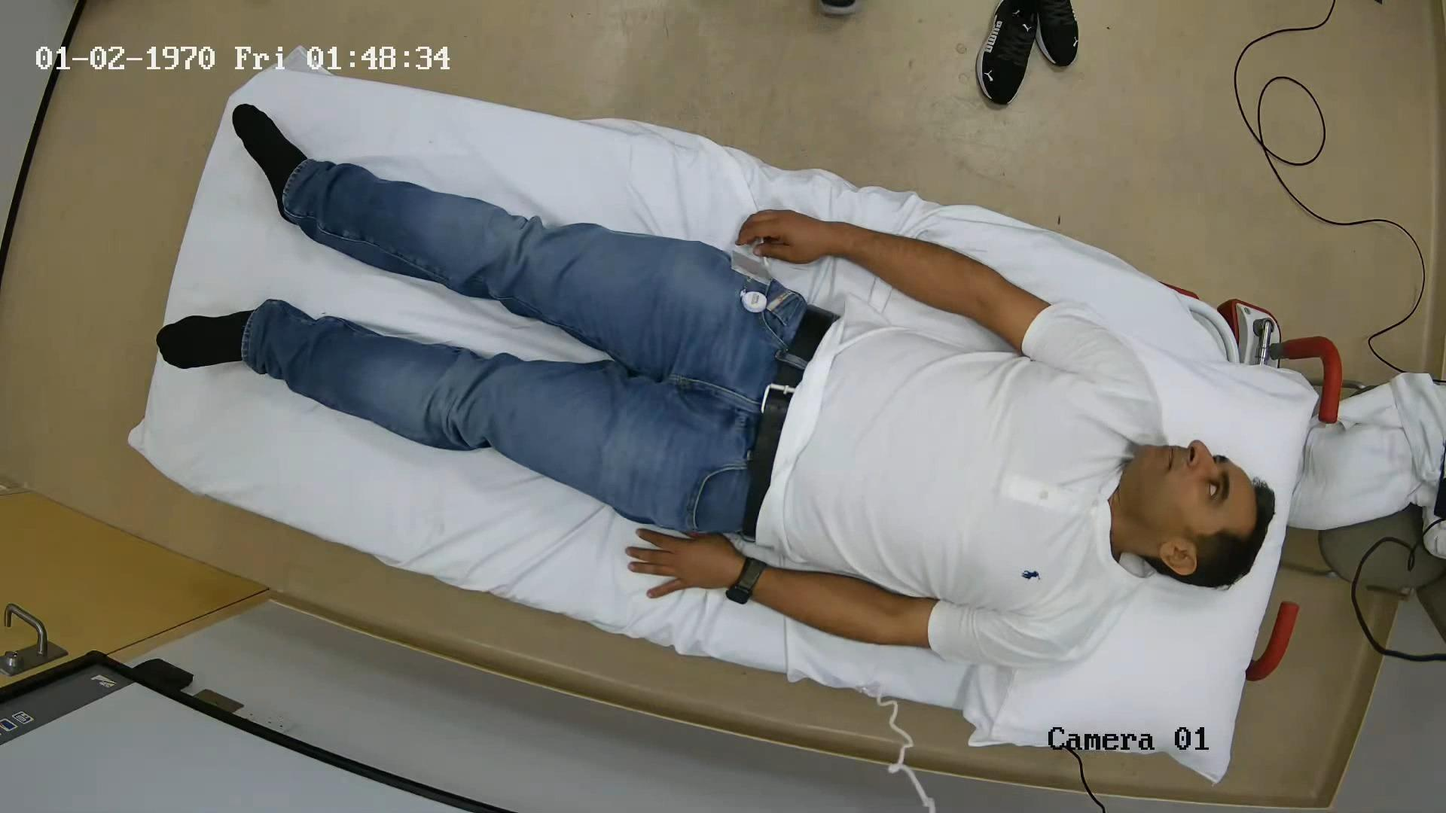bed: (130, 71, 1341, 772)
patient: (158, 105, 1272, 665)
